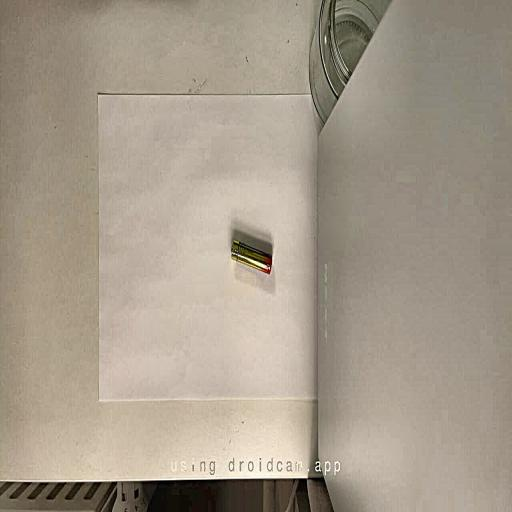PanasonicAA: (232, 240, 271, 274)
